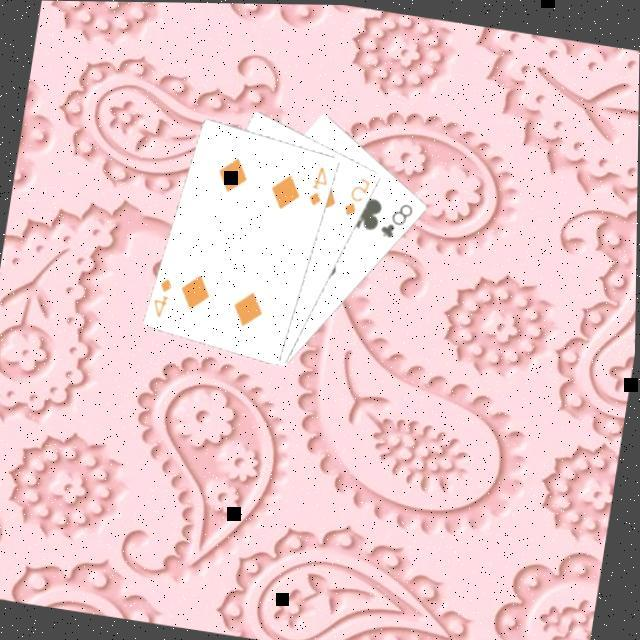4D: (304, 161, 333, 211), (149, 274, 177, 322)
5D: (339, 172, 374, 222)
8C: (374, 197, 418, 246)
